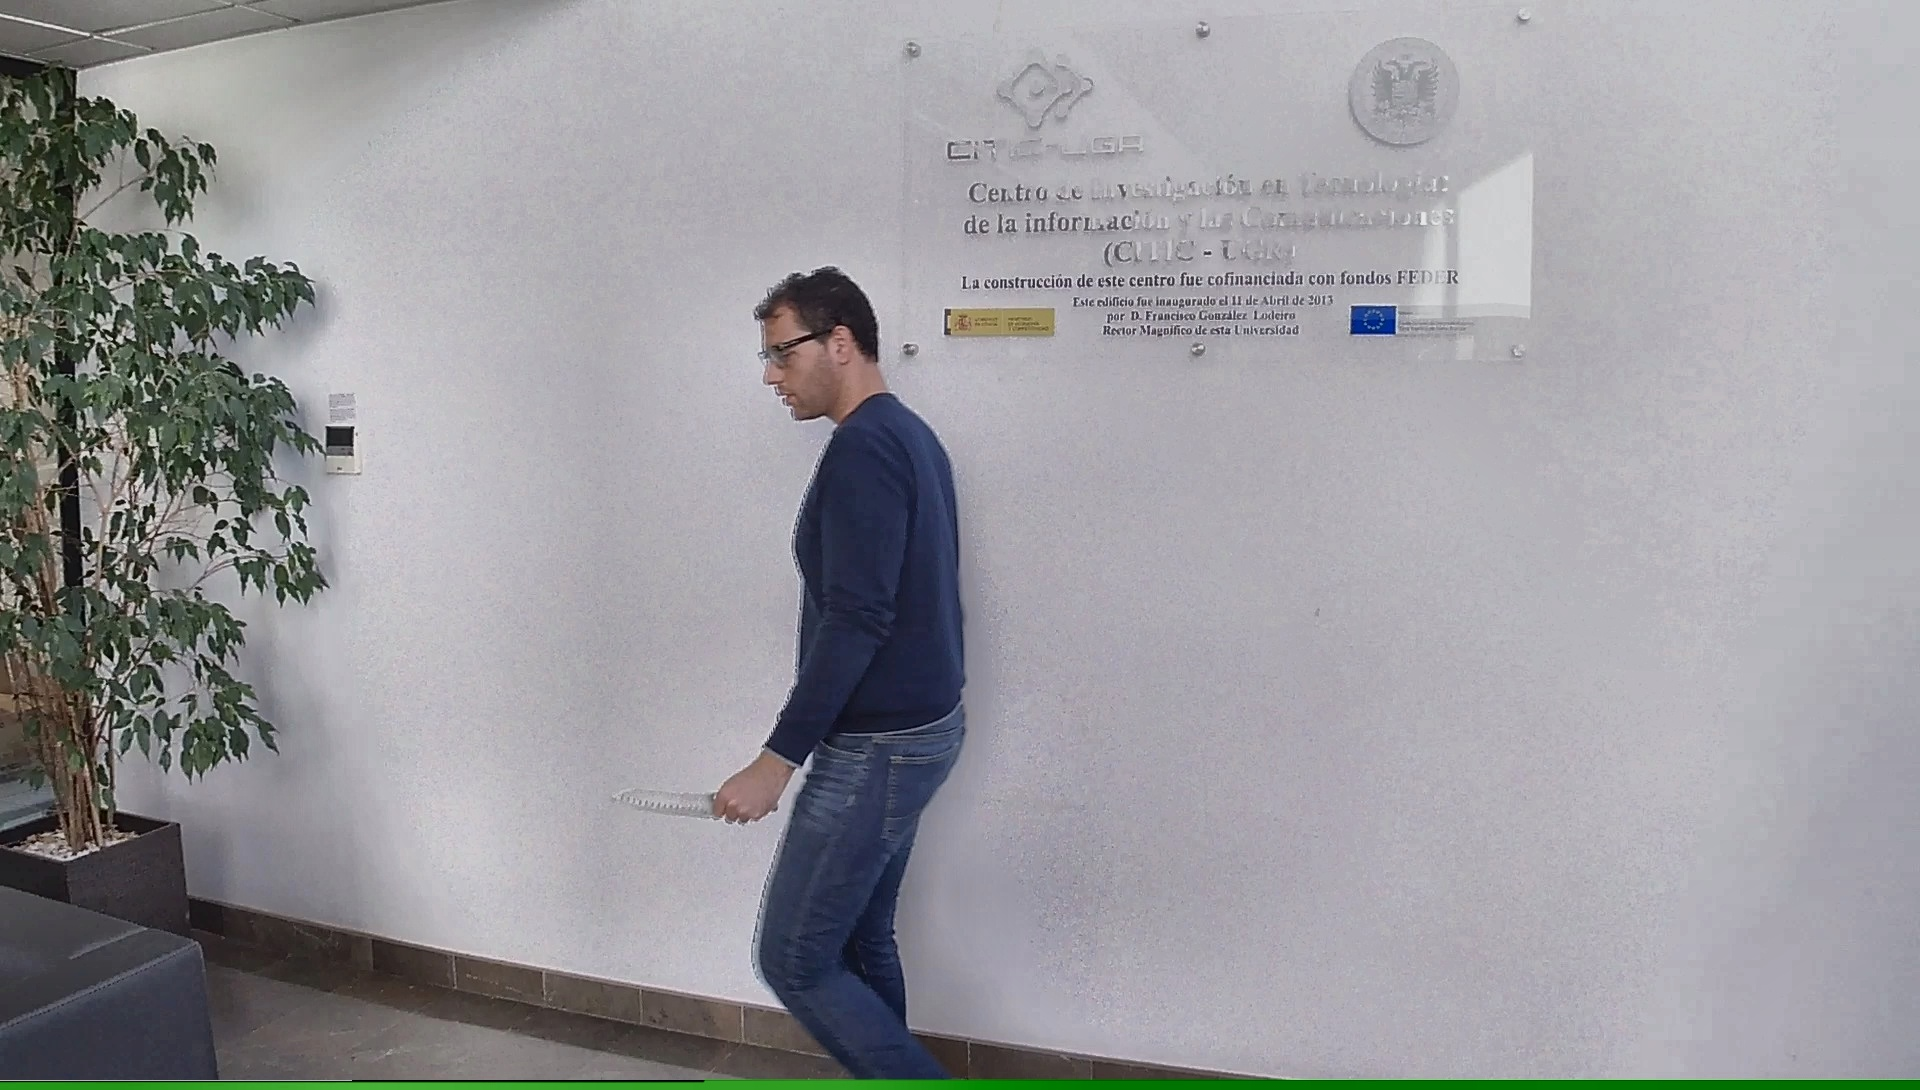knife: (603, 780, 786, 829)
